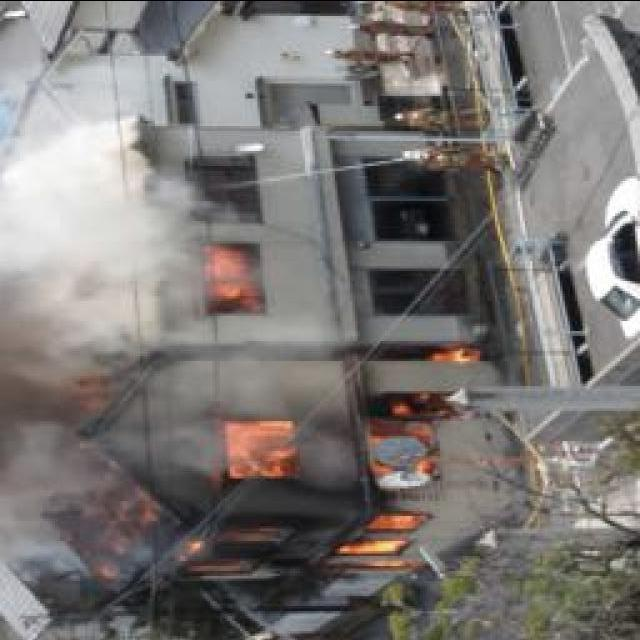Fire: (100, 336, 484, 584), (196, 227, 260, 307)
